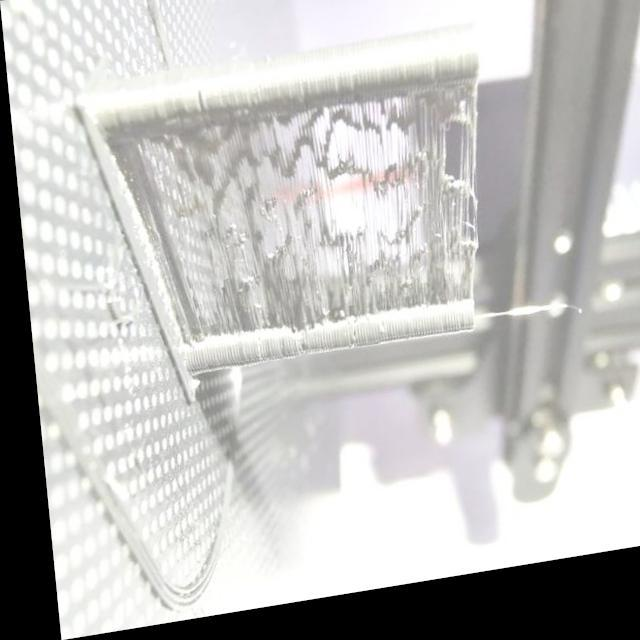stringing: (92, 82, 474, 368)
